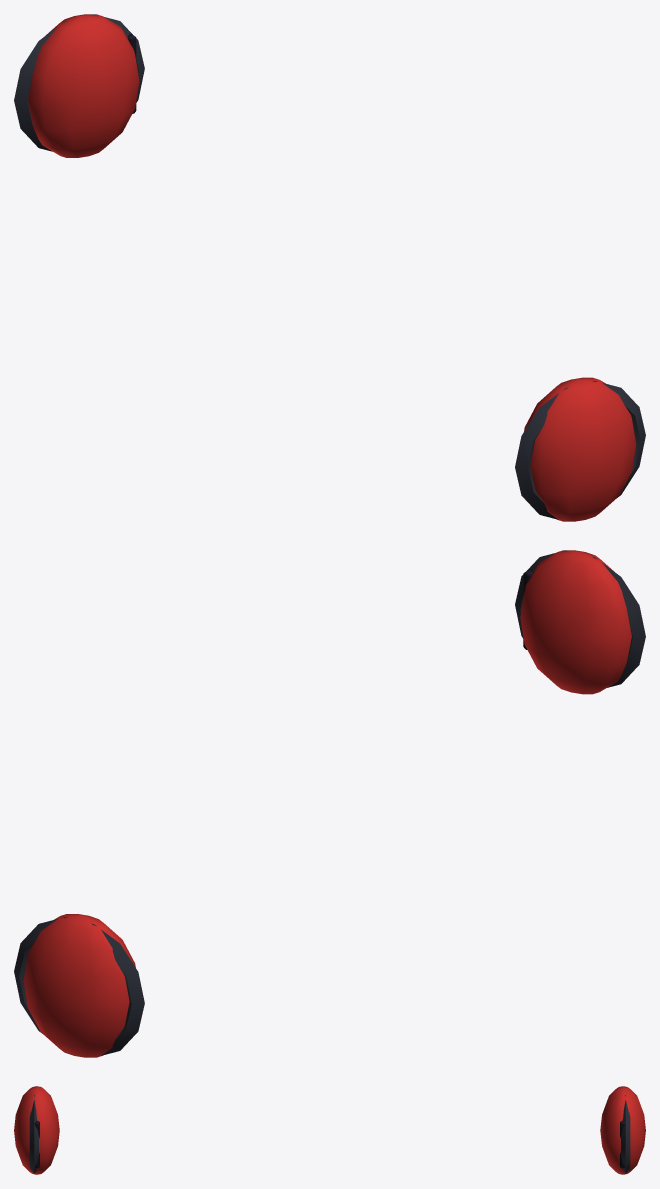
File: SM_SharkKit_GlowEyes.fbx
The picture shows the model from 3 angles, top to bottom: view 1: azimuth 30°, elevation 25°; view 2: azimuth 150°, elevation 25°; view 3: azimuth 270°, elevation 25°; orthographic projection. The views are drawn at different scales.
Parts seen in each view (by area): view 1: SM_SharkKit_GlowEyes; view 2: SM_SharkKit_GlowEyes; view 3: SM_SharkKit_GlowEyes.
Part boxes in pixels (bbox=[...]): SM_SharkKit_GlowEyes: bbox=[14, 14, 645, 521]; SM_SharkKit_GlowEyes: bbox=[14, 550, 645, 1057]; SM_SharkKit_GlowEyes: bbox=[14, 1086, 645, 1174].
Bounding box in the file's own units: 17.67 × 18.06 × 125.
